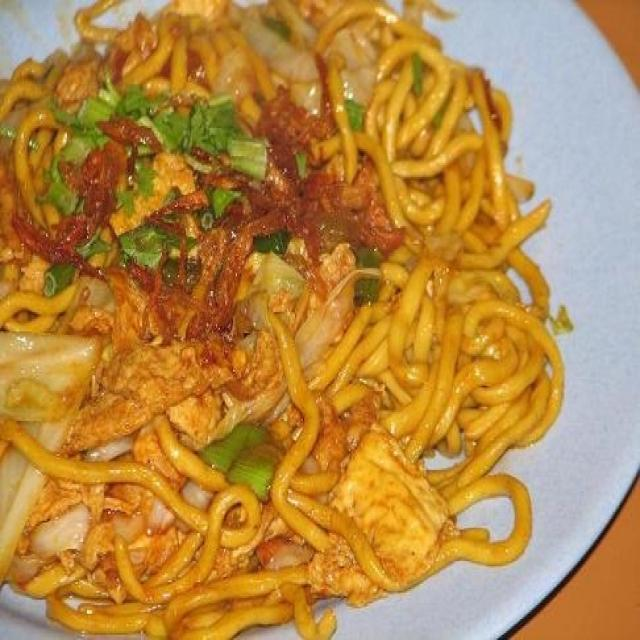面条主食: (12, 26, 583, 621)
